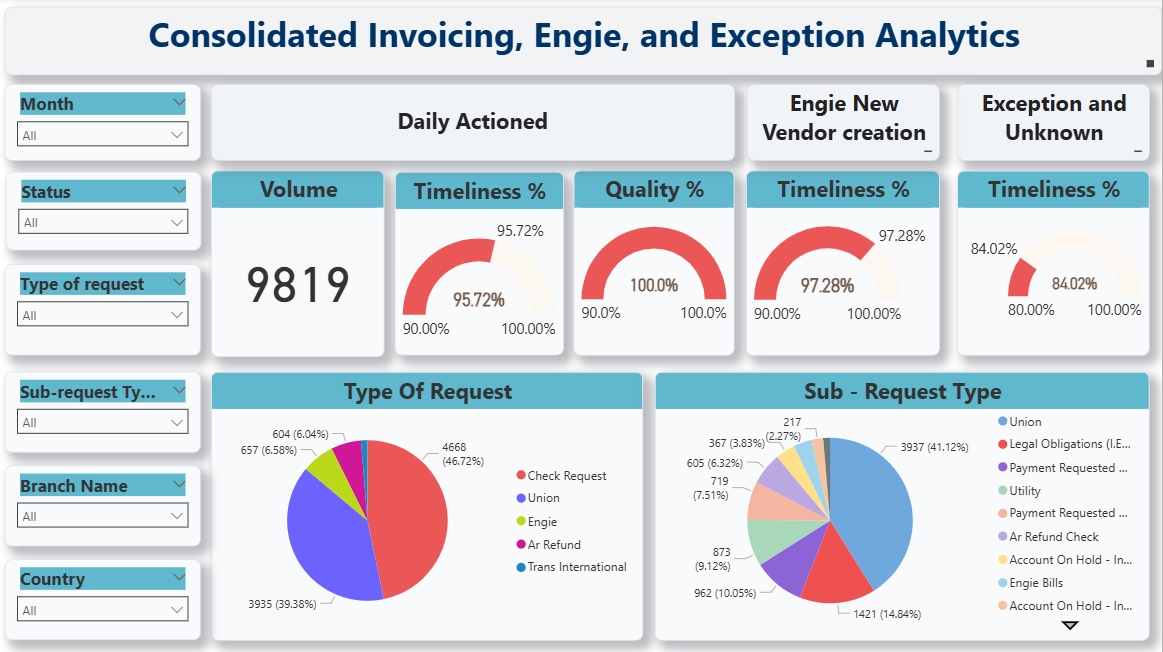

The page's visual inventory and layout, read from the dashboard file:
{"tool":"powerbi","page":{"name":"Page 1","canvas":[1280,720],"ordinal":0},"visuals":[{"type":"textbox","title":"Consolidated Invoicing, Engie, and Exception Analytics","box":[9.6,9.6,1270.7,75.5],"z":0},{"type":"slicer","fields":{"Values":["public invoice_analytics.month"]},"box":[9.6,94.7,215.4,83.7],"z":1000},{"type":"slicer","fields":{"Values":["public invoice_analytics.status_of_request"]},"box":[11,190.7,214.1,86.4],"z":2000},{"type":"slicer","fields":{"Values":["public invoice_analytics.type_of_request"]},"box":[9.6,292.3,215.4,100.2],"z":3000},{"type":"slicer","fields":{"Values":["public invoice_analytics.sub_request_type"]},"box":[9.6,410.3,215.4,89.2],"z":4000},{"type":"textbox","title":"Exception and Unknown","box":[1055.2,94.7,211.3,83.7],"z":5000},{"type":"card","title":"Volume","fields":{"Values":["public invoice_analytics.Total Actioned Volume"]},"box":[236,189.4,190.7,204.5],"z":6000},{"type":"gauge","title":"Timeliness %","fields":{"Y":["public invoice_analytics.Daily Timeliness %"]},"box":[437.7,190.7,185.2,201.7],"z":7000},{"type":"gauge","title":"Quality %","fields":{"Y":["public invoice_analytics.Daily Quality %"]},"box":[634,189.4,177,203.1],"z":8000},{"type":"gauge","title":"Timeliness %","fields":{"Y":["public invoice_analytics.Engine1 Timeliness %"]},"box":[823.3,189.4,212.7,203.1],"z":9000},{"type":"gauge","title":"Timeliness %","fields":{"Y":["public invoice_analytics.Exception Timeliness %"]},"box":[1055.2,189.4,211.3,203.1],"z":10000},{"type":"pieChart","title":"Type Of Request","fields":{"Category":["public invoice_analytics.type_of_request"],"Y":["Count(public invoice_analytics.request_id)"]},"box":[236,410.3,474.8,295],"z":11000},{"type":"pieChart","title":"Sub - Request Type","fields":{"Category":["public invoice_analytics.sub_request_type"],"Y":["Count(public invoice_analytics.request_id)"]},"box":[723.2,410.3,543.4,295],"z":12000},{"type":"slicer","fields":{"Values":["public invoice_analytics.branch_name"]},"box":[9.6,513.2,215.4,89.2],"z":13000},{"type":"slicer","fields":{"Values":["public invoice_analytics.country"]},"box":[9.6,616.1,215.4,89.2],"z":14000},{"type":"card","fields":{"Values":["public invoice_analytics.DailyActionedTitle"]},"box":[236,94.7,575,83.7],"z":15000},{"type":"textbox","title":"Engie New Vendor creation","box":[824.7,94.7,211.3,83.7],"z":16000}]}

Visuals, with their boxes in screenshot pixels (x1, y1, x2, y2), scaled from the page's 1280x720 canvas onto the 1163x652 screenshot:
"Consolidated Invoicing, Engie, and Exception Analytics" textbox: {"x1": 9, "y1": 9, "x2": 1162, "y2": 77}
slicer - public invoice_analytics.month: {"x1": 9, "y1": 86, "x2": 204, "y2": 162}
slicer - public invoice_analytics.status_of_request: {"x1": 10, "y1": 173, "x2": 205, "y2": 251}
slicer - public invoice_analytics.type_of_request: {"x1": 9, "y1": 265, "x2": 204, "y2": 355}
slicer - public invoice_analytics.sub_request_type: {"x1": 9, "y1": 372, "x2": 204, "y2": 452}
"Exception and Unknown" textbox: {"x1": 959, "y1": 86, "x2": 1151, "y2": 162}
"Volume" card: {"x1": 214, "y1": 172, "x2": 388, "y2": 357}
"Timeliness %" gauge: {"x1": 398, "y1": 173, "x2": 566, "y2": 355}
"Quality %" gauge: {"x1": 576, "y1": 172, "x2": 737, "y2": 355}
"Timeliness %" gauge: {"x1": 748, "y1": 172, "x2": 941, "y2": 355}
"Timeliness %" gauge: {"x1": 959, "y1": 172, "x2": 1151, "y2": 355}
"Type Of Request" pieChart: {"x1": 214, "y1": 372, "x2": 646, "y2": 639}
"Sub - Request Type" pieChart: {"x1": 657, "y1": 372, "x2": 1151, "y2": 639}
slicer - public invoice_analytics.branch_name: {"x1": 9, "y1": 465, "x2": 204, "y2": 546}
slicer - public invoice_analytics.country: {"x1": 9, "y1": 558, "x2": 204, "y2": 639}
card - public invoice_analytics.DailyActionedTitle: {"x1": 214, "y1": 86, "x2": 737, "y2": 162}
"Engie New Vendor creation" textbox: {"x1": 749, "y1": 86, "x2": 941, "y2": 162}
